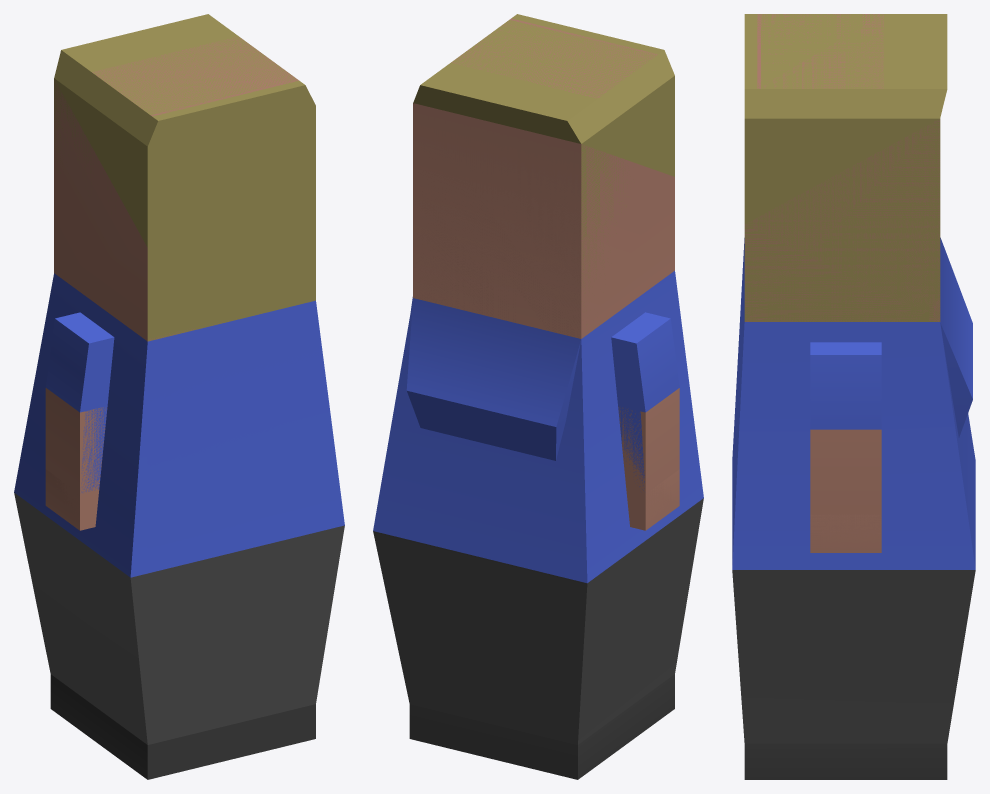
The model's file is pedestrians.fbx.
3 views of the same model, side by side, from view 1: azimuth 30°, elevation 25°; view 2: azimuth 150°, elevation 25°; view 3: azimuth 270°, elevation 25° (orthographic). The views are drawn at different scales.
Parts seen in each view (by area): view 1: body2, body1, body, L1, L, body3; view 2: body2, body, body1, L1, L, body3; view 3: body2, body, body1, R1, body3, R.
Part boxes in pixels (x1,y1,x2,y2): body2: [14, 22, 344, 744]; body1: [54, 37, 321, 744]; body: [50, 20, 315, 779]; L1: [45, 319, 114, 530]; L: [45, 312, 114, 530]; body3: [54, 14, 303, 120]; body2: [373, 14, 703, 744]; body: [406, 20, 674, 779]; body1: [417, 18, 674, 338]; L1: [611, 319, 679, 529]; L: [611, 312, 679, 530]; body3: [413, 16, 663, 143]; body2: [732, 14, 975, 743]; body: [744, 14, 972, 779]; body1: [732, 14, 940, 556]; R1: [810, 355, 881, 552]; body3: [744, 14, 947, 117]; R: [810, 342, 881, 552].
Size of the model in its own units: 0.4084 by 1.06 by 0.3424.
